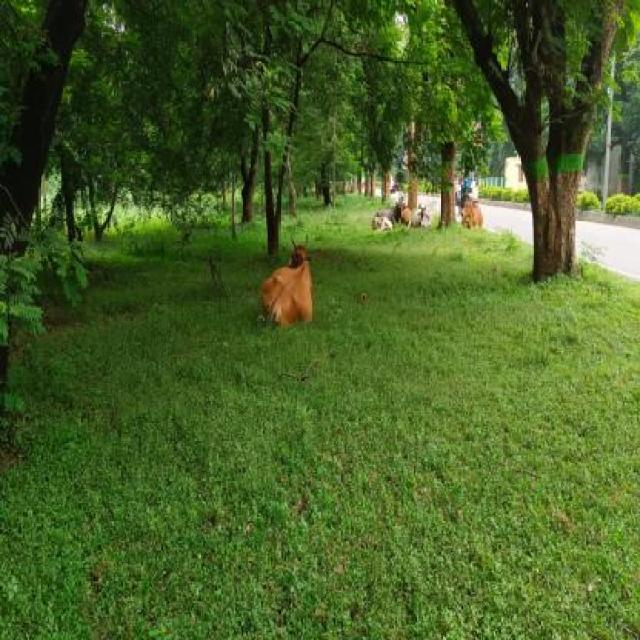cow: (257, 233, 312, 339)
